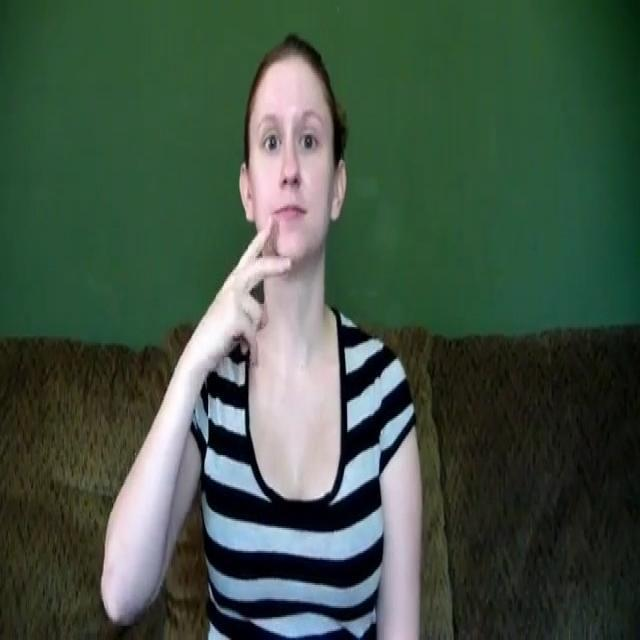vegetables: (200, 221, 298, 397)
